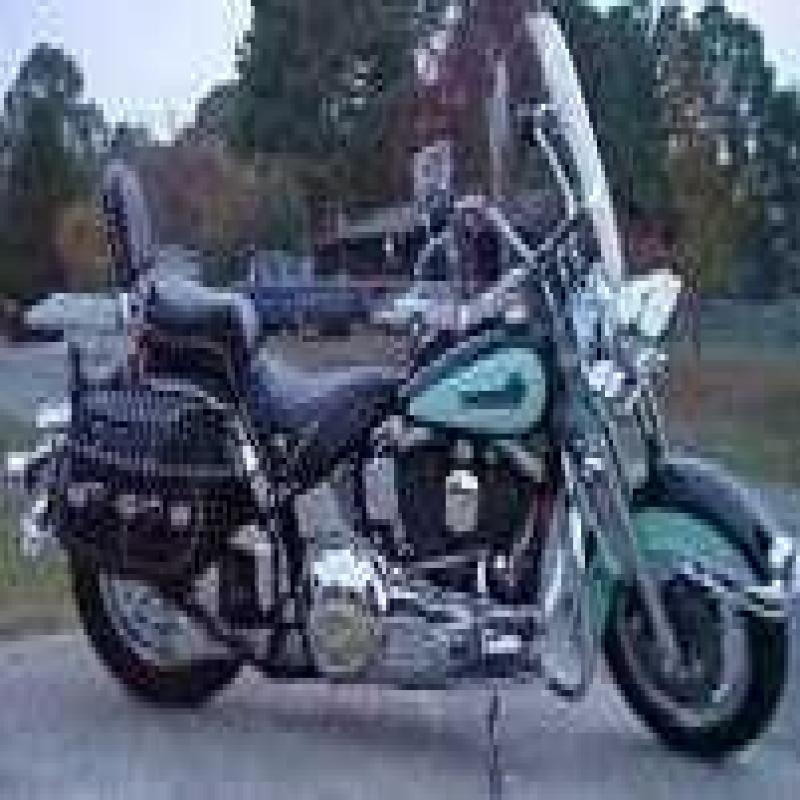bike: (5, 9, 800, 777)
